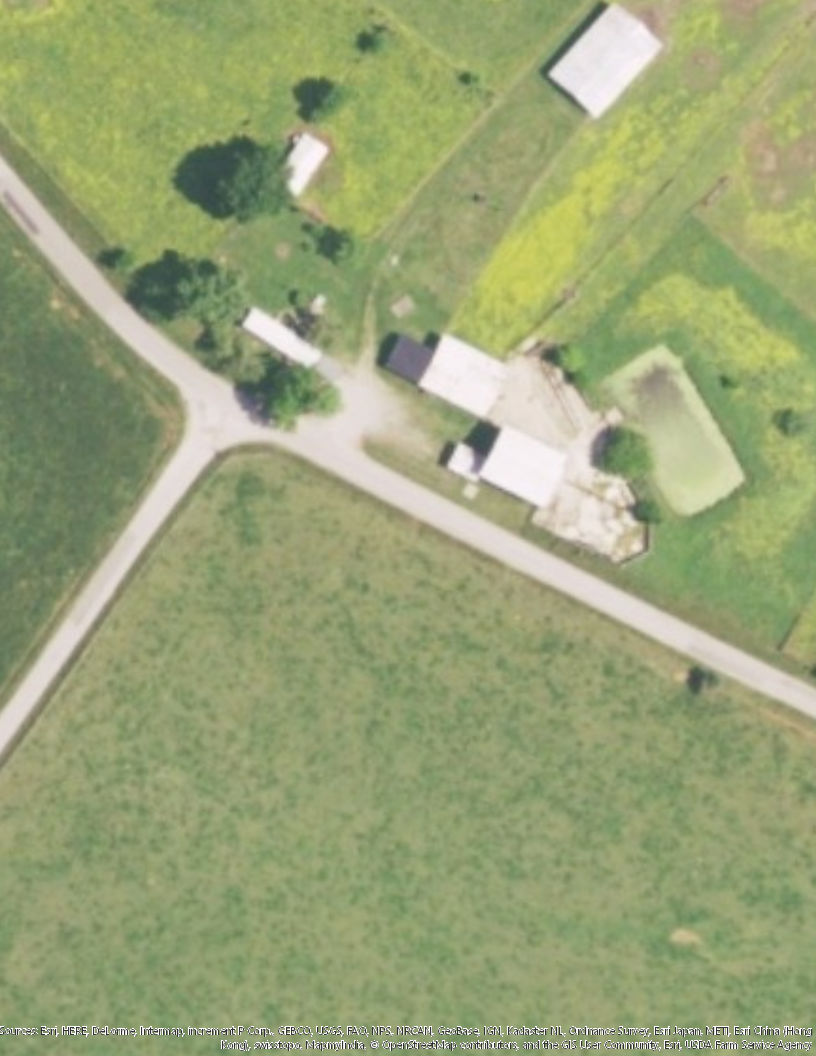cafo: (539, 1, 669, 124), (386, 323, 515, 421), (449, 415, 577, 513)
